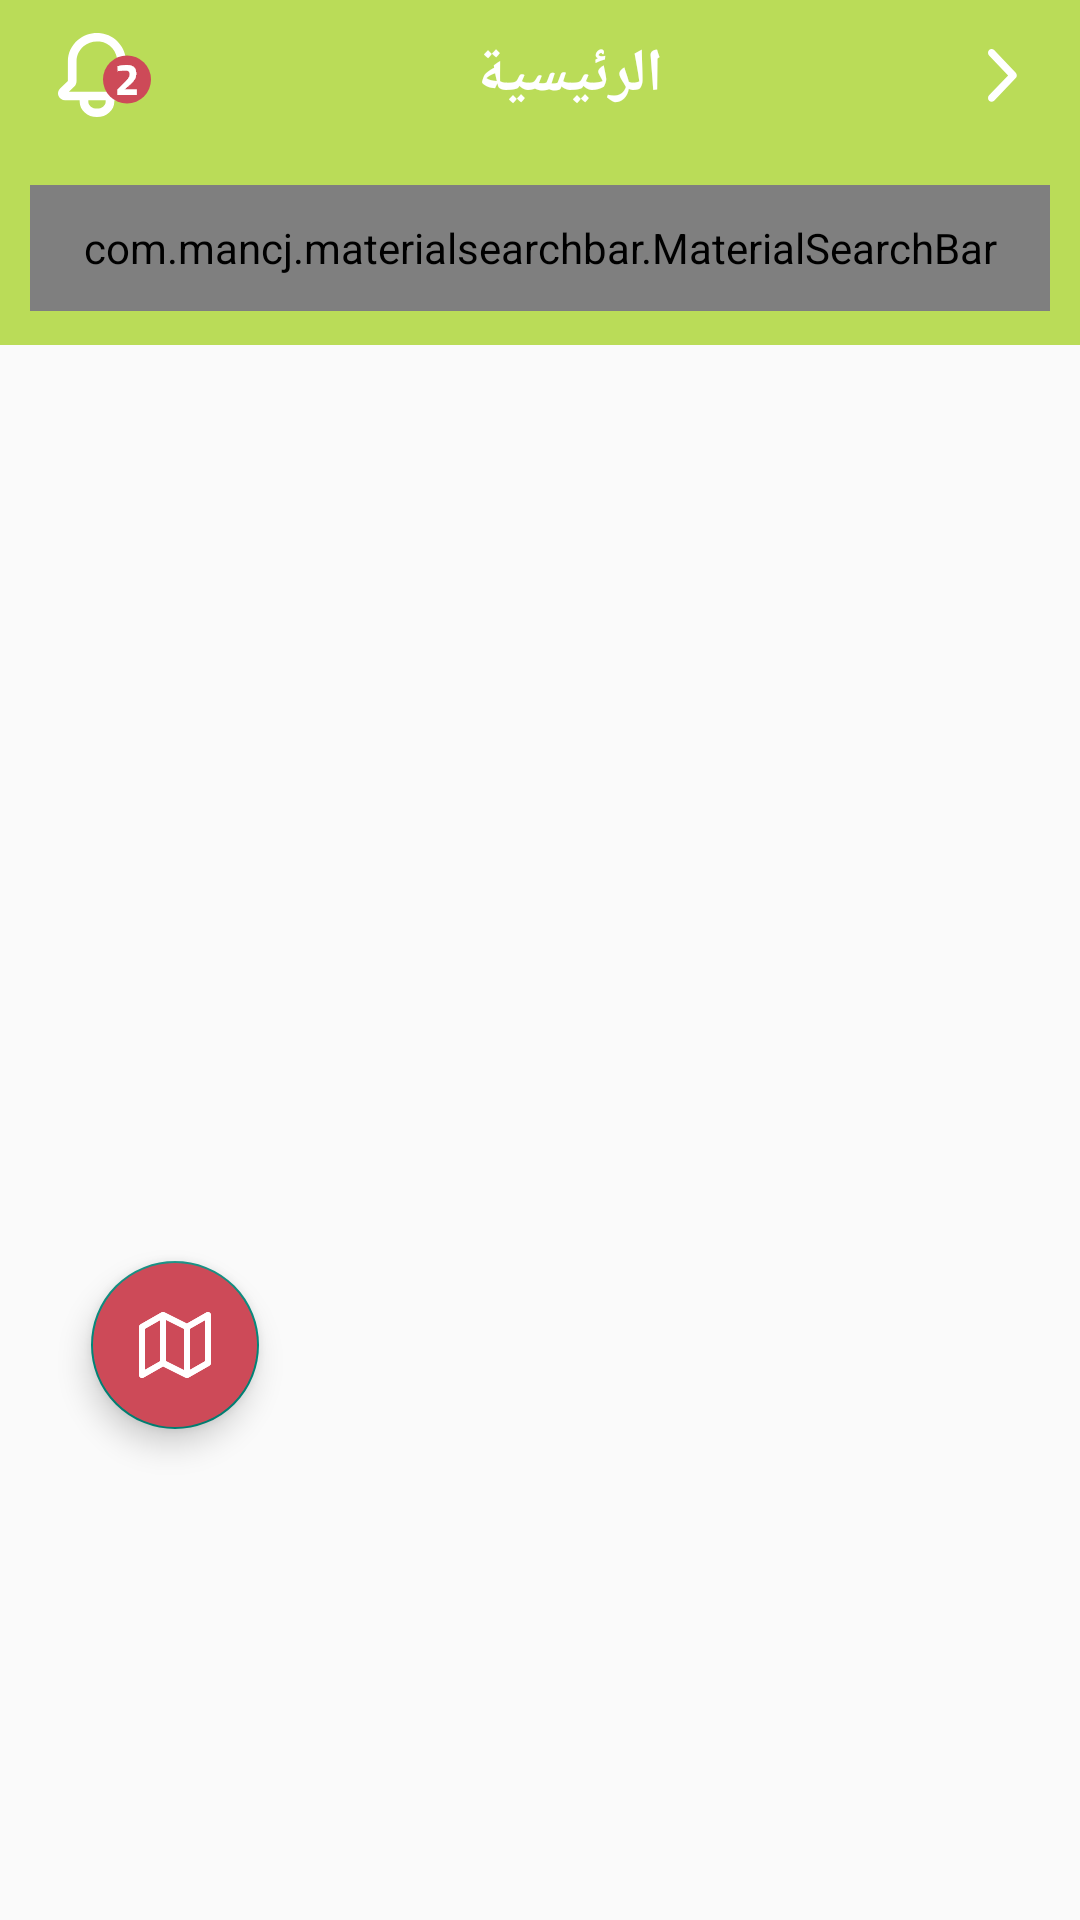

Point at icon controls on the screen. Image size 1080 x 1920, points as point (x, y).
map: point (175, 1345)
